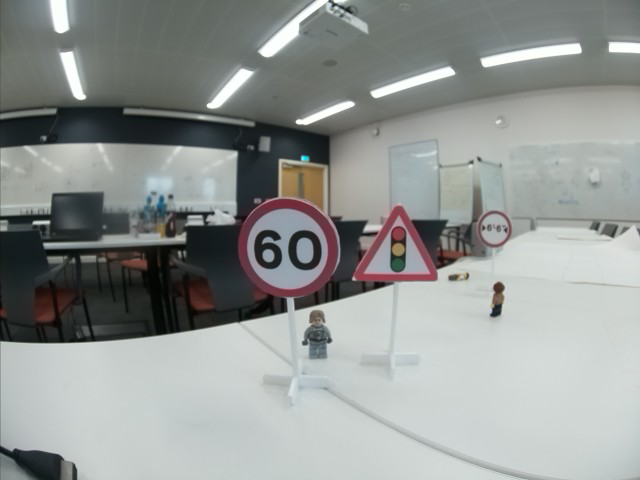60mph: (239, 198, 339, 300)
6ft6: (476, 210, 513, 247)
Lego Man: (302, 307, 337, 359), (490, 280, 505, 319), (448, 273, 471, 279)
Traffic lights: (353, 205, 437, 282)
